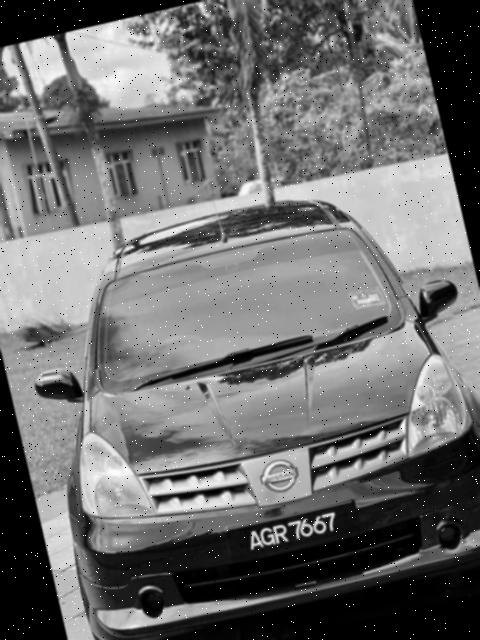License_Plate: (226, 498, 364, 568)
car: (1, 156, 480, 640)
